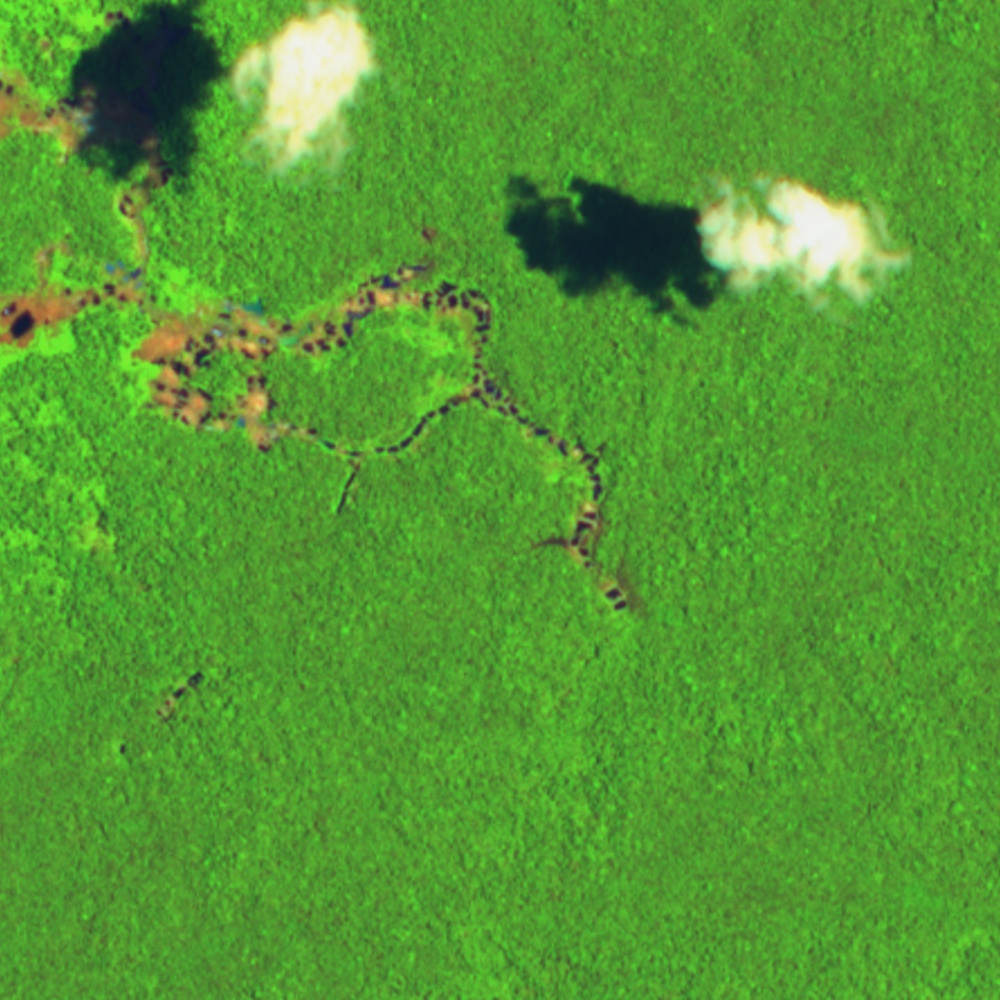legal: (1, 221, 616, 510), (1, 74, 181, 229), (526, 499, 634, 620), (77, 482, 124, 554), (156, 664, 209, 718), (36, 33, 64, 63), (95, 12, 144, 26), (114, 739, 128, 753)
